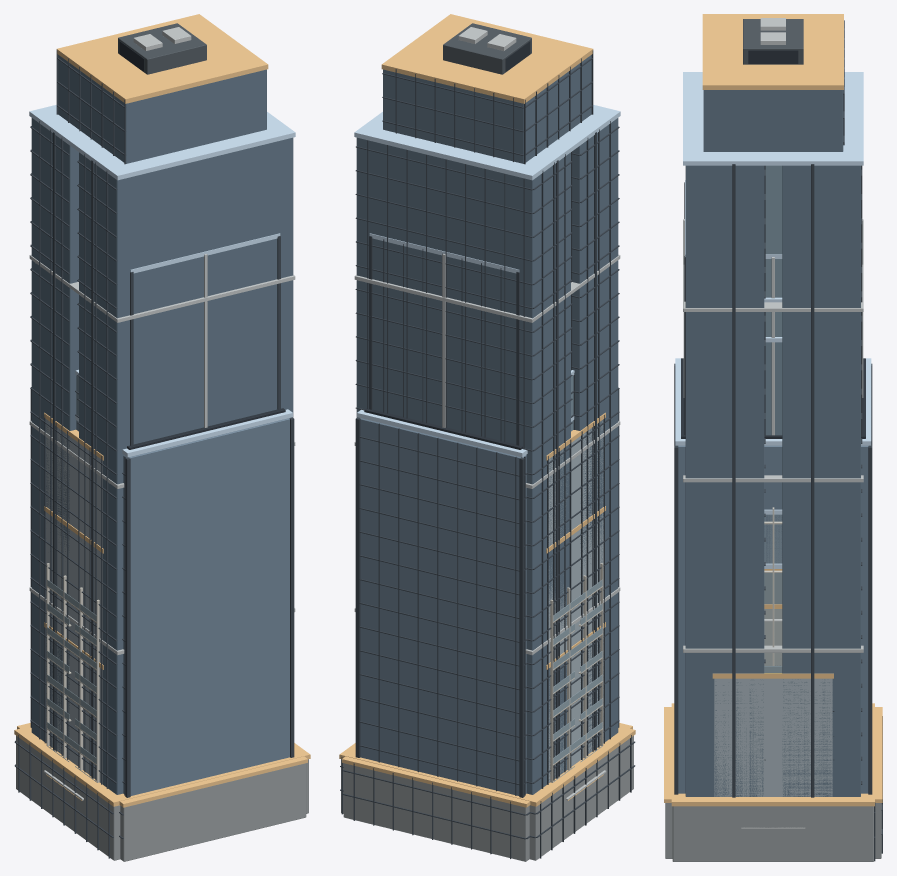
The model's file is district-buildings.glb.
The picture shows the model from 3 angles, left to right: view 1: azimuth 30°, elevation 25°; view 2: azimuth 150°, elevation 25°; view 3: azimuth 270°, elevation 25°; orthographic projection. The views are drawn at different scales.
Parts seen in each view (by area): view 1: district-9 / District facade glazing, district-1 / District facade glazing, district-9 / District architectural solid, district-9 / District crown light, district-2 / District facade glazing, district-1 / District architectural solid, district-8 / District architectural solid, district-2 / District architectural solid, district-1 / District crown light, district-2 / District crown light; view 2: district-9 / District facade glazing, district-1 / District facade glazing, district-9 / District architectural solid, district-1 / District architectural solid, district-9 / District crown light, district-2 / District facade glazing, district-8 / District architectural solid, district-2 / District architectural solid, district-1 / District crown light, district-2 / District crown light; view 3: district-9 / District facade glazing, district-9 / District crown light, district-2 / District facade glazing, district-9 / District architectural solid, district-1 / District facade glazing, district-1 / District architectural solid, district-1 / District crown light, district-11 / District facade glazing, district-8 / District facade glazing, district-10 / District facade glazing, district-2 / District crown light, district-0 / District facade glazing (+1 smaller).
Part boxes in pixels (x1,y1,x2,y2): district-9 / District facade glazing: (16, 55, 308, 860); district-1 / District facade glazing: (76, 418, 306, 861); district-9 / District architectural solid: (14, 23, 295, 858); district-9 / District crown light: (14, 14, 310, 806); district-2 / District facade glazing: (46, 419, 102, 784); district-1 / District architectural solid: (30, 236, 294, 838); district-8 / District architectural solid: (46, 563, 99, 782); district-2 / District architectural solid: (44, 415, 102, 784); district-1 / District crown light: (17, 233, 307, 807); district-2 / District crown light: (44, 412, 103, 669); district-9 / District facade glazing: (341, 55, 633, 860); district-1 / District facade glazing: (343, 418, 529, 861); district-9 / District architectural solid: (340, 23, 635, 858); district-1 / District architectural solid: (342, 236, 619, 858); district-9 / District crown light: (339, 14, 635, 806); district-2 / District facade glazing: (548, 420, 603, 782); district-8 / District architectural solid: (550, 563, 603, 782); district-2 / District architectural solid: (547, 415, 605, 784); district-1 / District crown light: (342, 233, 632, 807); district-2 / District crown light: (546, 412, 605, 669); district-9 / District facade glazing: (672, 90, 873, 861); district-9 / District crown light: (671, 14, 874, 806); district-2 / District facade glazing: (714, 678, 832, 796); district-9 / District architectural solid: (683, 18, 875, 861); district-1 / District facade glazing: (665, 445, 881, 858); district-1 / District architectural solid: (674, 182, 882, 853); district-1 / District crown light: (664, 180, 882, 802); district-11 / District facade glazing: (765, 342, 782, 435); district-8 / District facade glazing: (764, 609, 782, 665); district-10 / District facade glazing: (764, 514, 782, 665); district-2 / District crown light: (712, 673, 833, 678); district-0 / District facade glazing: (764, 573, 782, 665).
Bounding box in the file's own units: 31.42 × 116 × 29.34.
